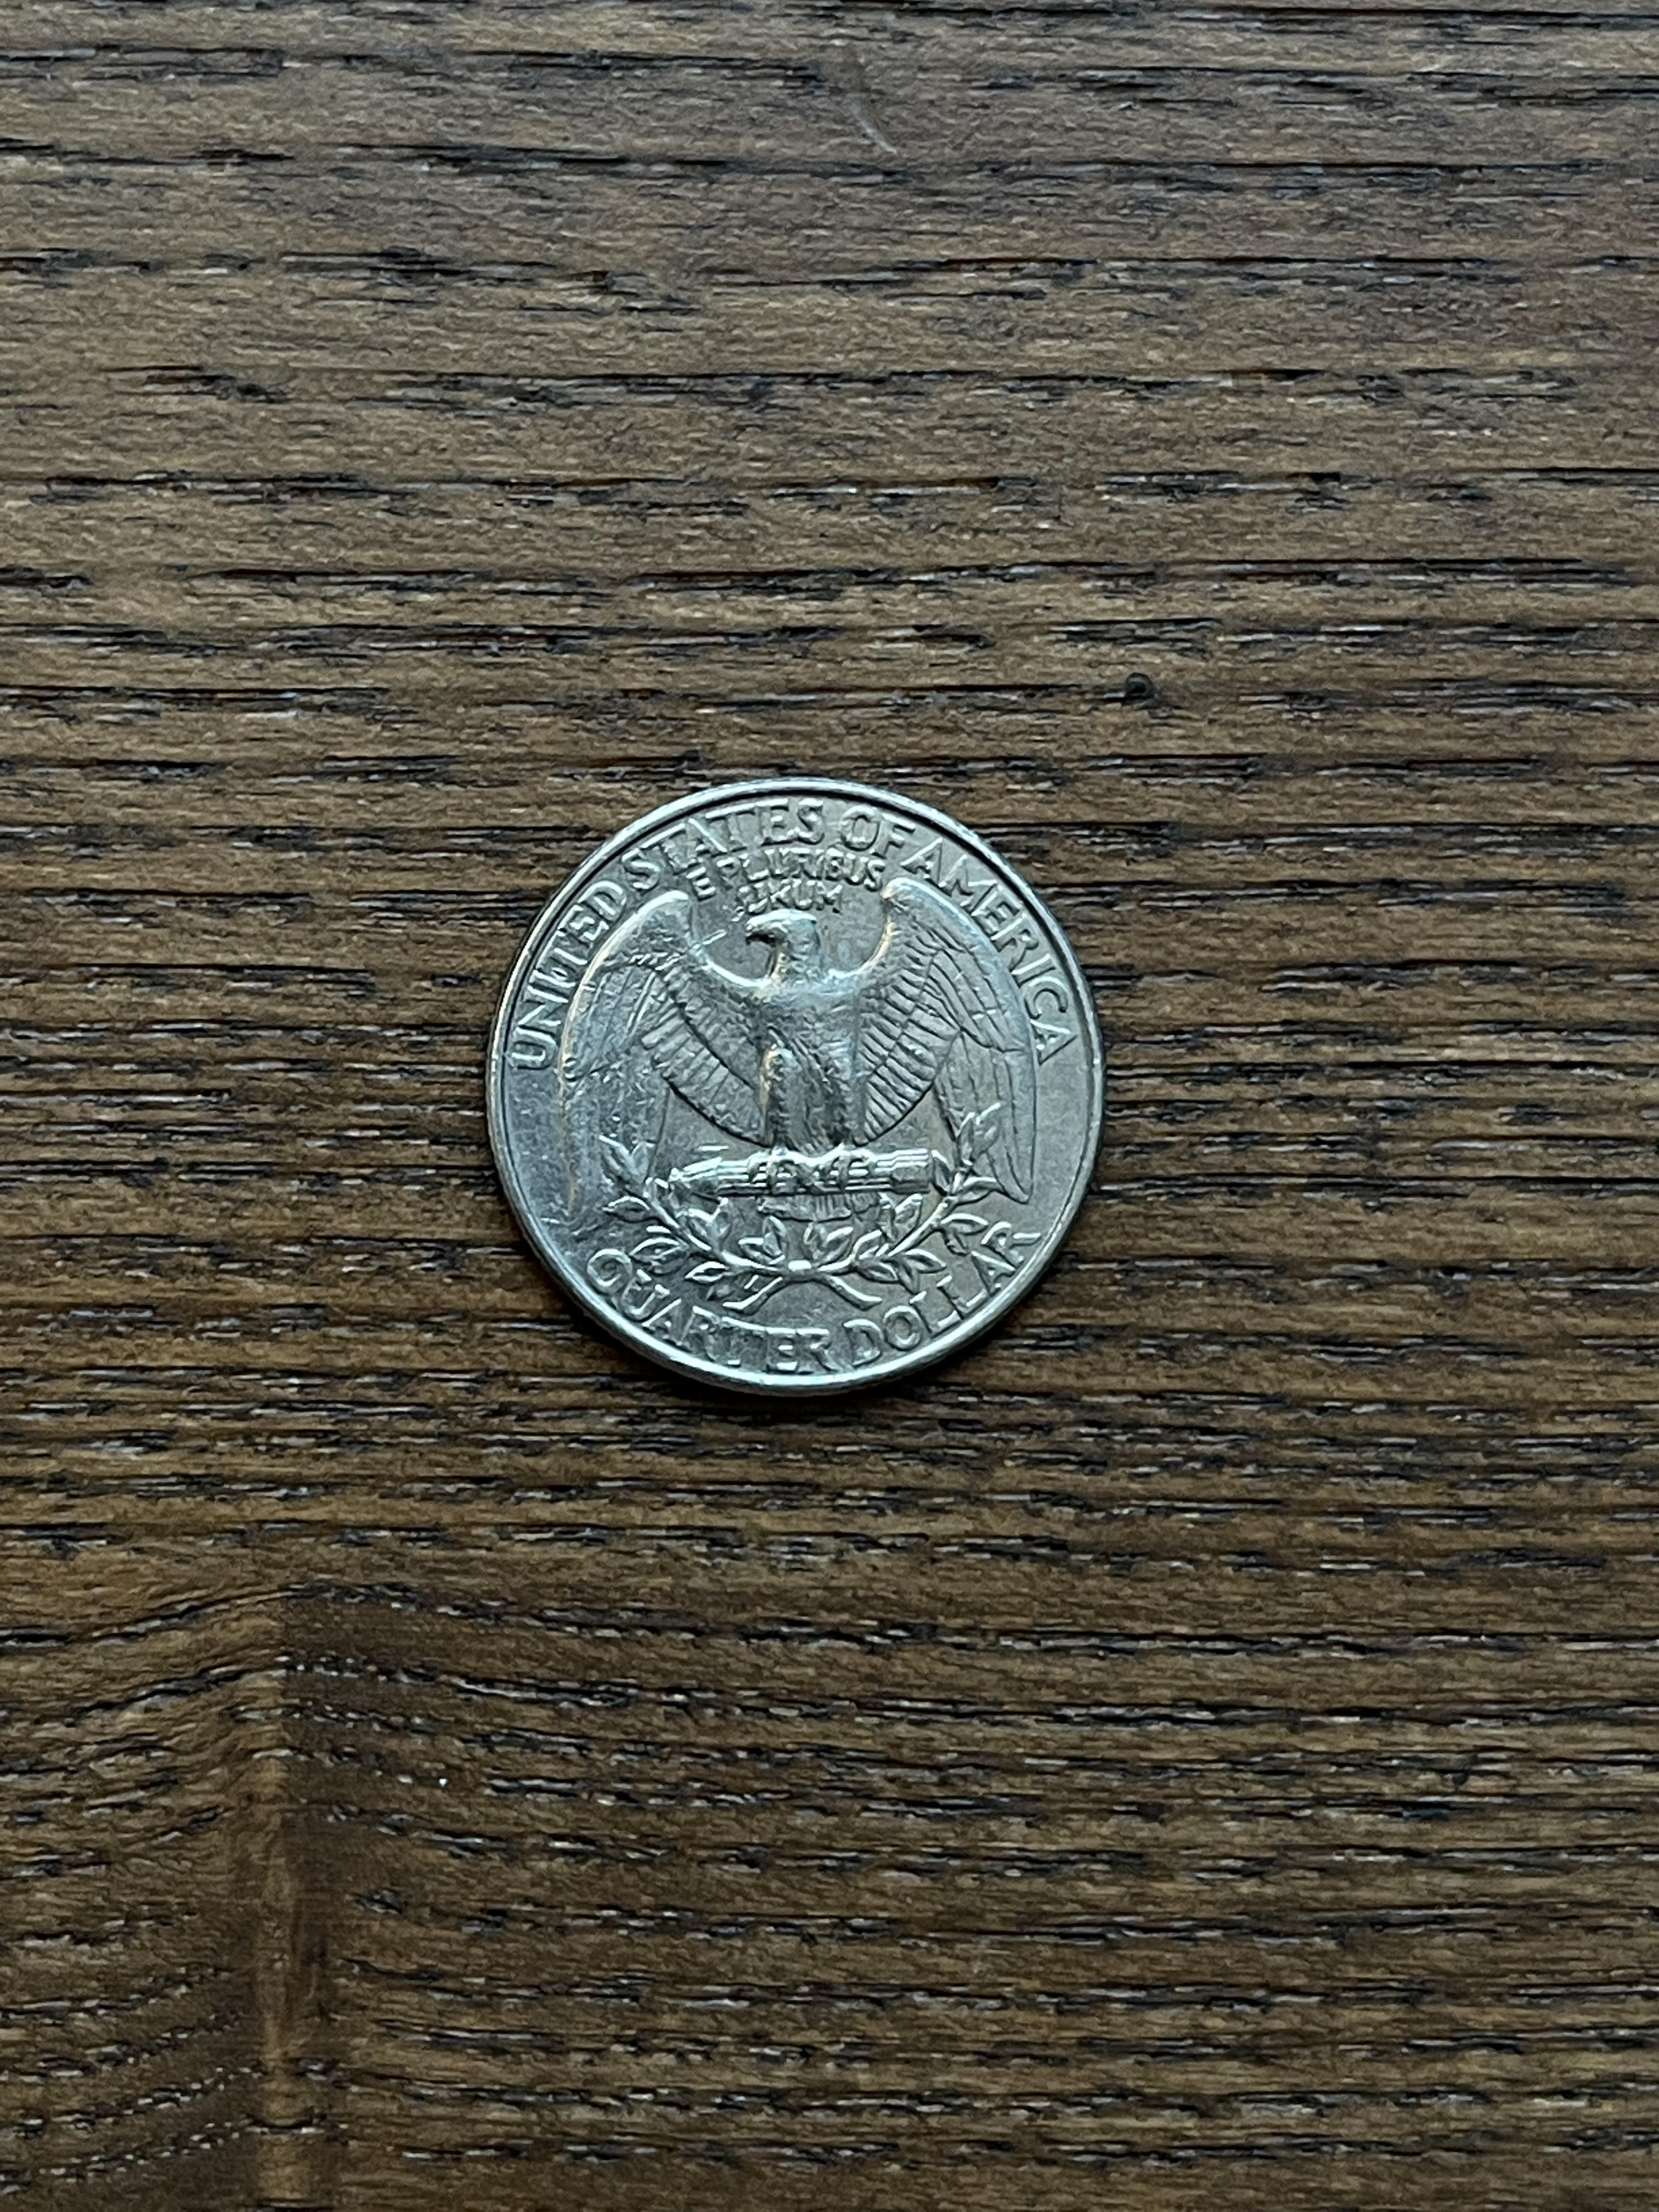Quarter: (479, 768, 1112, 1404)
